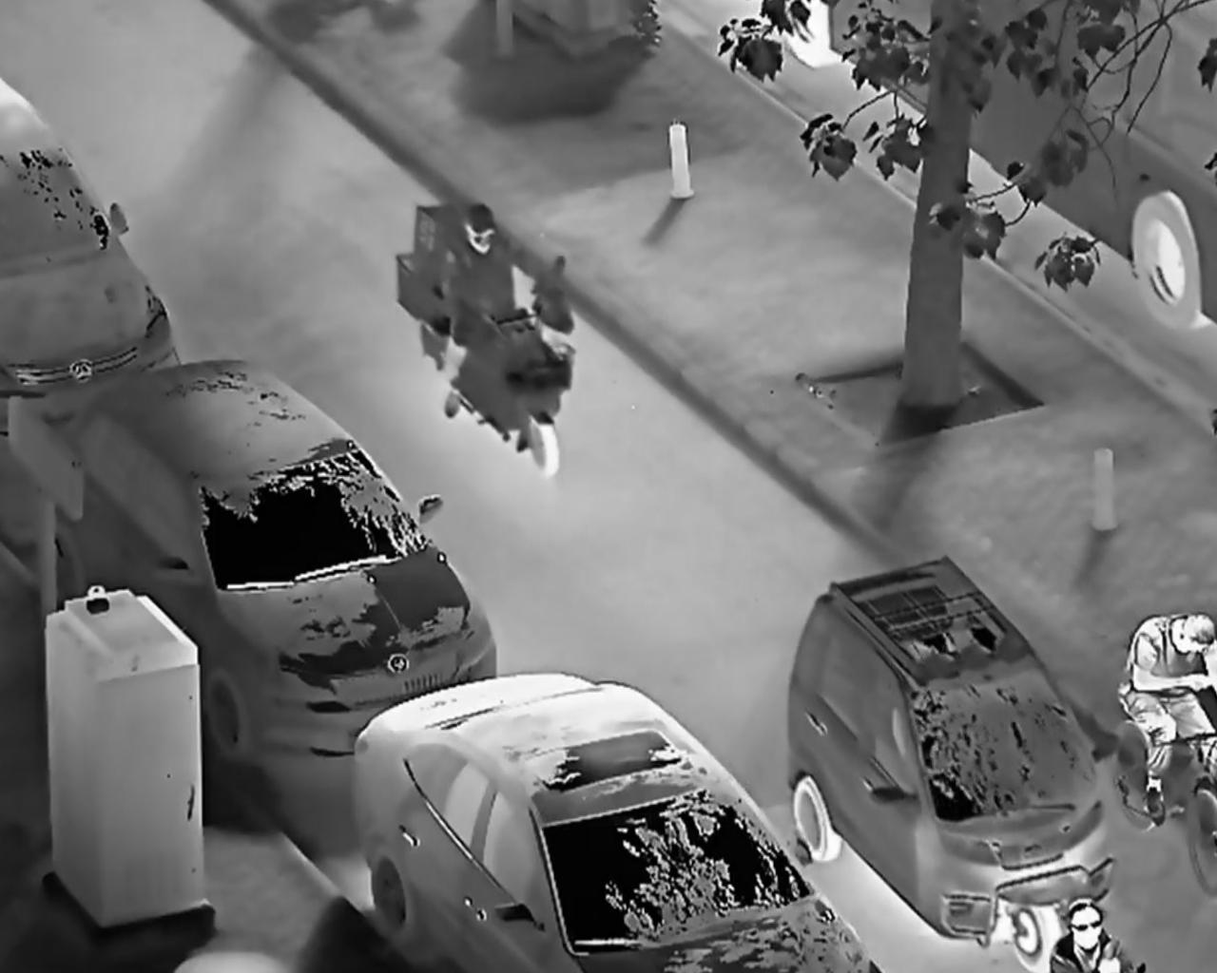person: (437, 201, 566, 425), (1111, 607, 1217, 824), (1041, 892, 1157, 972)
